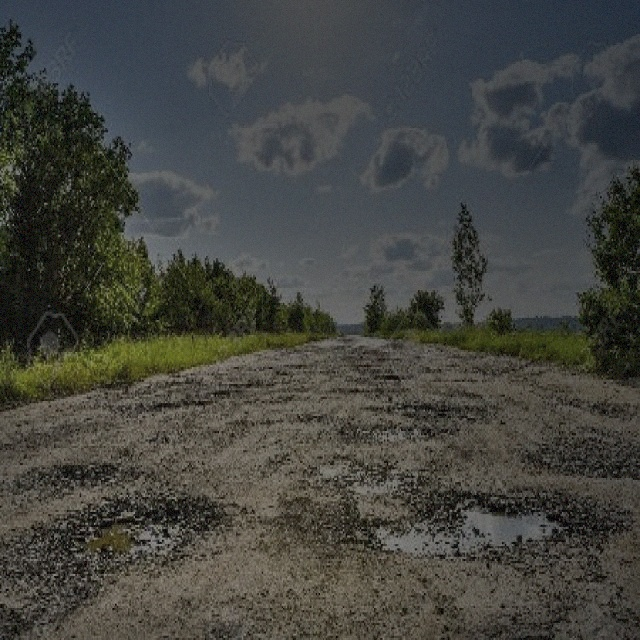pothole: (356, 482, 604, 559), (41, 489, 216, 576), (41, 454, 121, 495)
